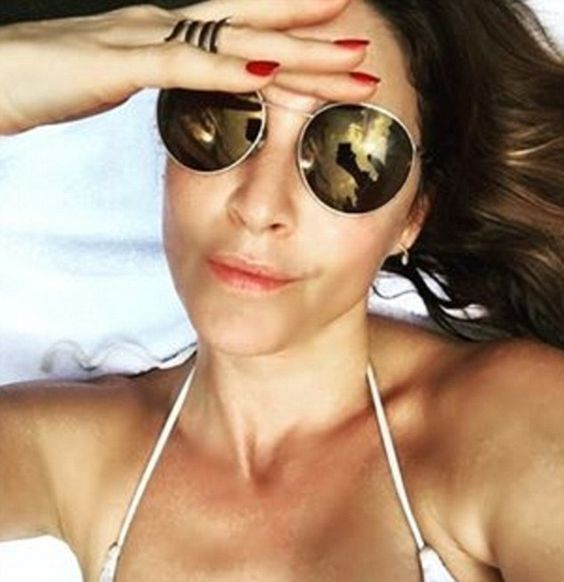sunglasses: (166, 80, 401, 204)
